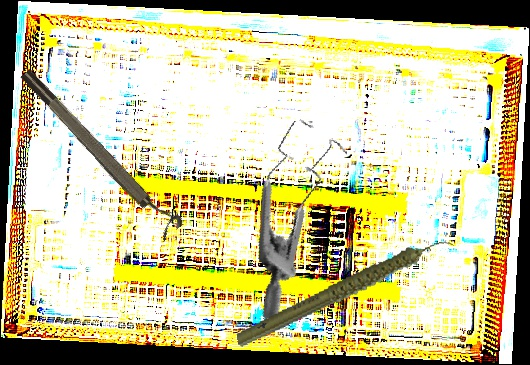Fixation Ring: (17, 60, 186, 242)
Handpiece: (225, 235, 466, 350)
Speculum: (209, 108, 388, 320)
